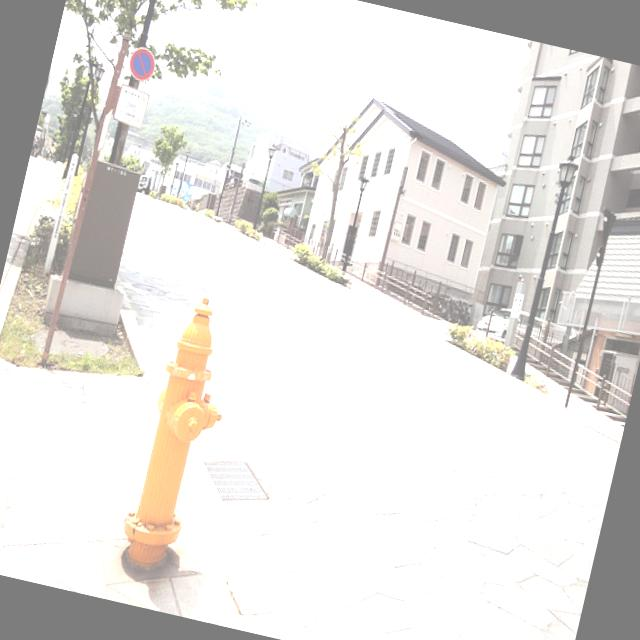Vehicle: (476, 303, 512, 338)
